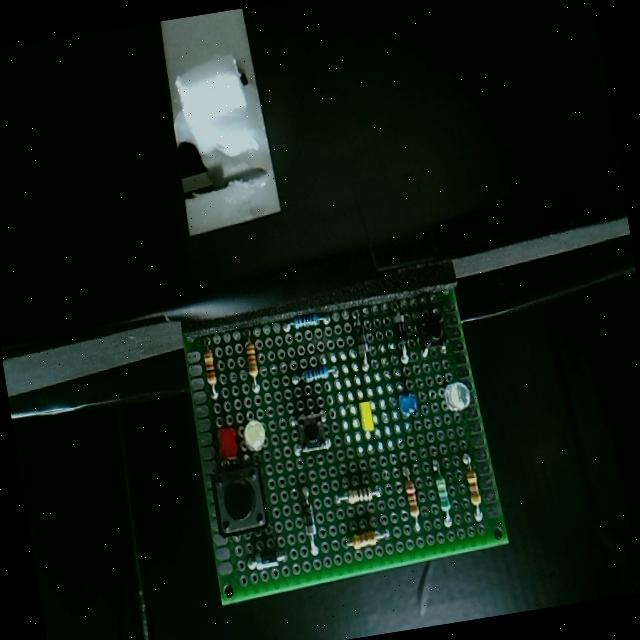diode: (384, 294, 418, 361), (348, 308, 378, 371), (294, 495, 324, 551), (247, 546, 286, 575)
led: (432, 374, 469, 420), (215, 414, 248, 464), (354, 394, 382, 440), (240, 420, 267, 459), (392, 386, 420, 416)
resistor: (424, 462, 460, 526), (282, 298, 336, 334), (394, 471, 428, 527), (458, 454, 488, 516), (340, 522, 386, 560), (287, 355, 334, 392), (336, 478, 382, 514), (238, 336, 266, 388), (196, 339, 220, 393)
switch: (206, 464, 272, 544), (404, 298, 460, 360), (286, 410, 336, 460)
